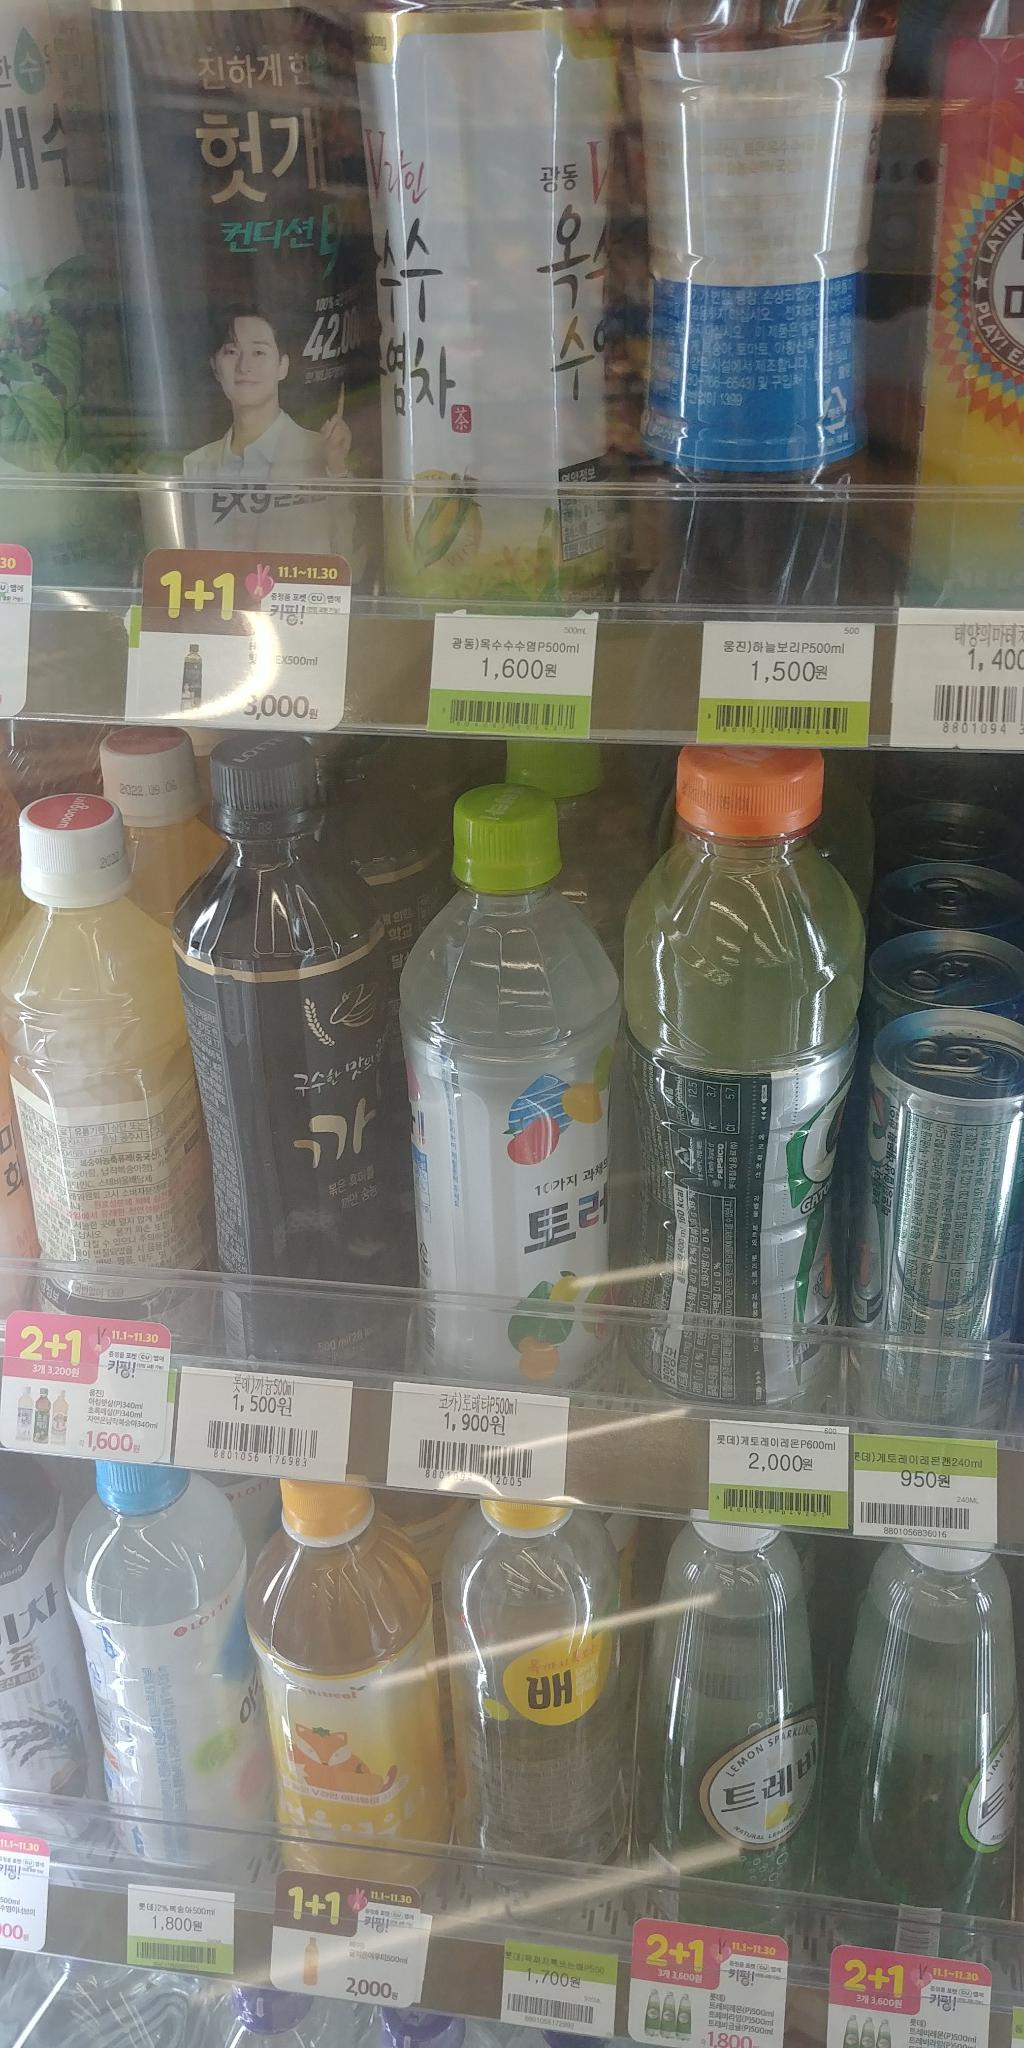gatorade_lemon: (609, 721, 856, 1458)
oksususuyeomcha: (350, 0, 644, 620)
toreta: (375, 771, 632, 1401)
